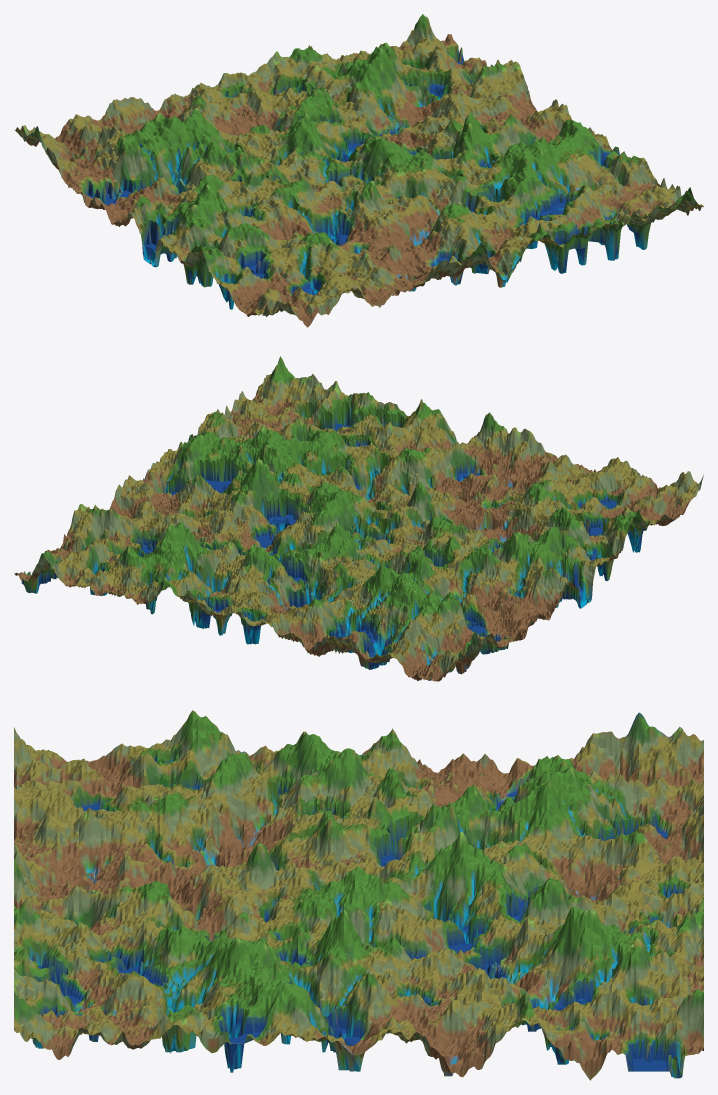
File: landscape_FOREST.obj
3 renders of one model, top to bottom at view 1: azimuth 30°, elevation 25°; view 2: azimuth 150°, elevation 25°; view 3: azimuth 270°, elevation 25°, orthographic. The views are drawn at different scales.
Parts seen in each view (by area): view 1: terrain_FOREST; view 2: terrain_FOREST; view 3: terrain_FOREST.
Boxes of the visible parts, x1,y1,x2,y2 form: terrain_FOREST: [14, 14, 703, 327]; terrain_FOREST: [14, 356, 703, 681]; terrain_FOREST: [14, 710, 703, 1080].
Bounding box in the file's own units: 255 × 39.24 × 255.
1 material, 1 textured.
